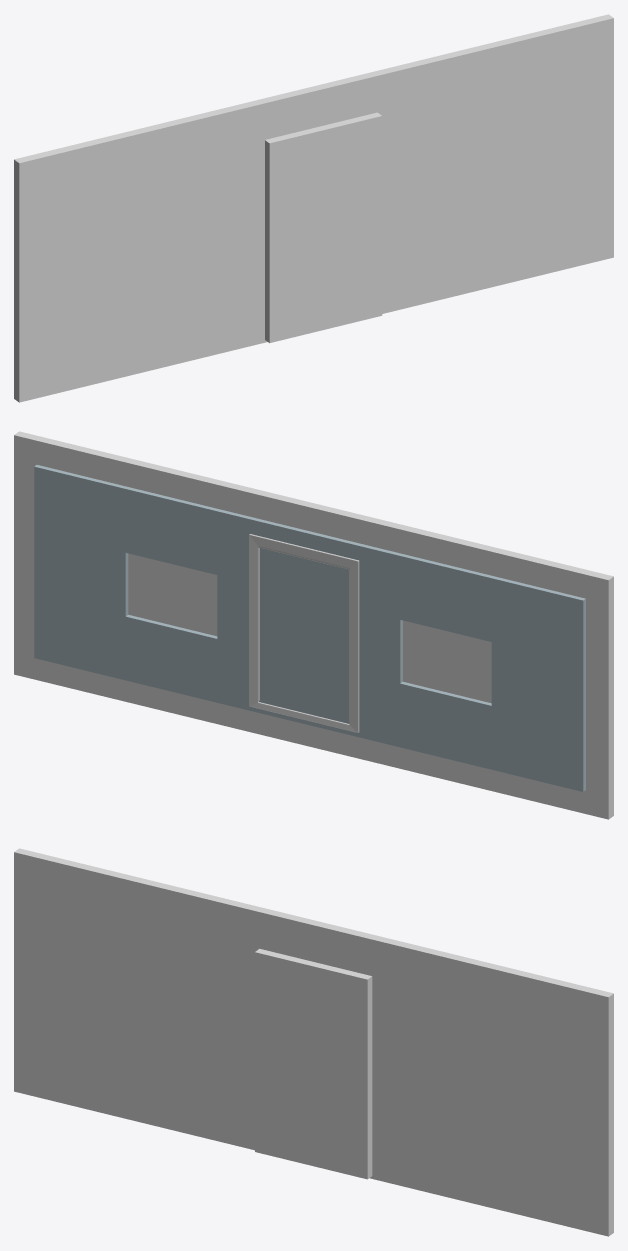
Rendered from wall_front1.gltf.
The picture shows the model from 3 angles, top to bottom: view 1: azimuth 30°, elevation 25°; view 2: azimuth 150°, elevation 25°; view 3: azimuth 330°, elevation 25°; orthographic projection.
Parts seen in each view (by area): view 1: 立方体, 立方体.001; view 2: wall, 立方体; view 3: 立方体, 立方体.001.
Boxes of the visible parts, x1=… form: 立方体: x1=14, y1=14, x2=613, y2=402; 立方体.001: x1=265, y1=112, x2=382, y2=343; wall: x1=34, y1=465, x2=585, y2=791; 立方体: x1=14, y1=431, x2=613, y2=819; 立方体: x1=14, y1=848, x2=613, y2=1236; 立方体.001: x1=255, y1=948, x2=372, y2=1179.
Bounding box in the file's own units: 130 × 50 × 5.05.
